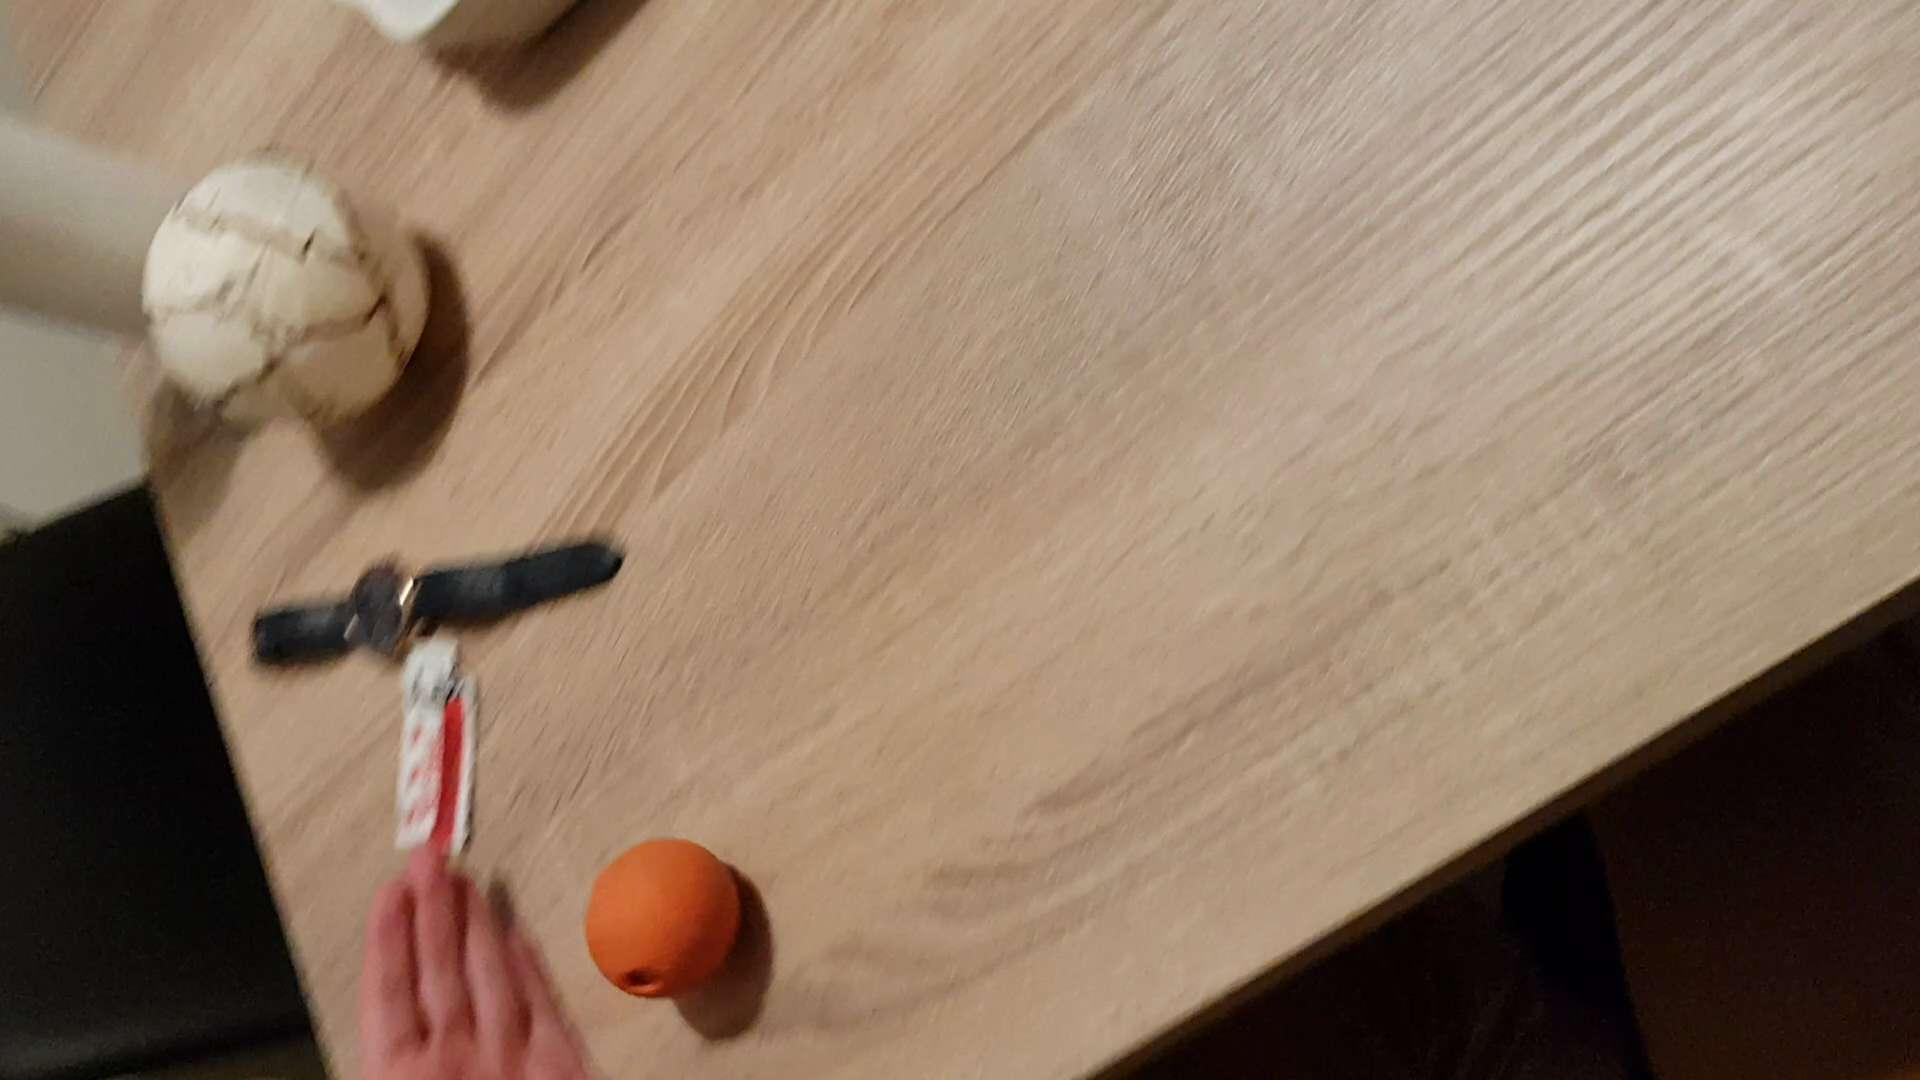Sphere: (142, 156, 425, 436)
sphere: (578, 843, 740, 1007)
